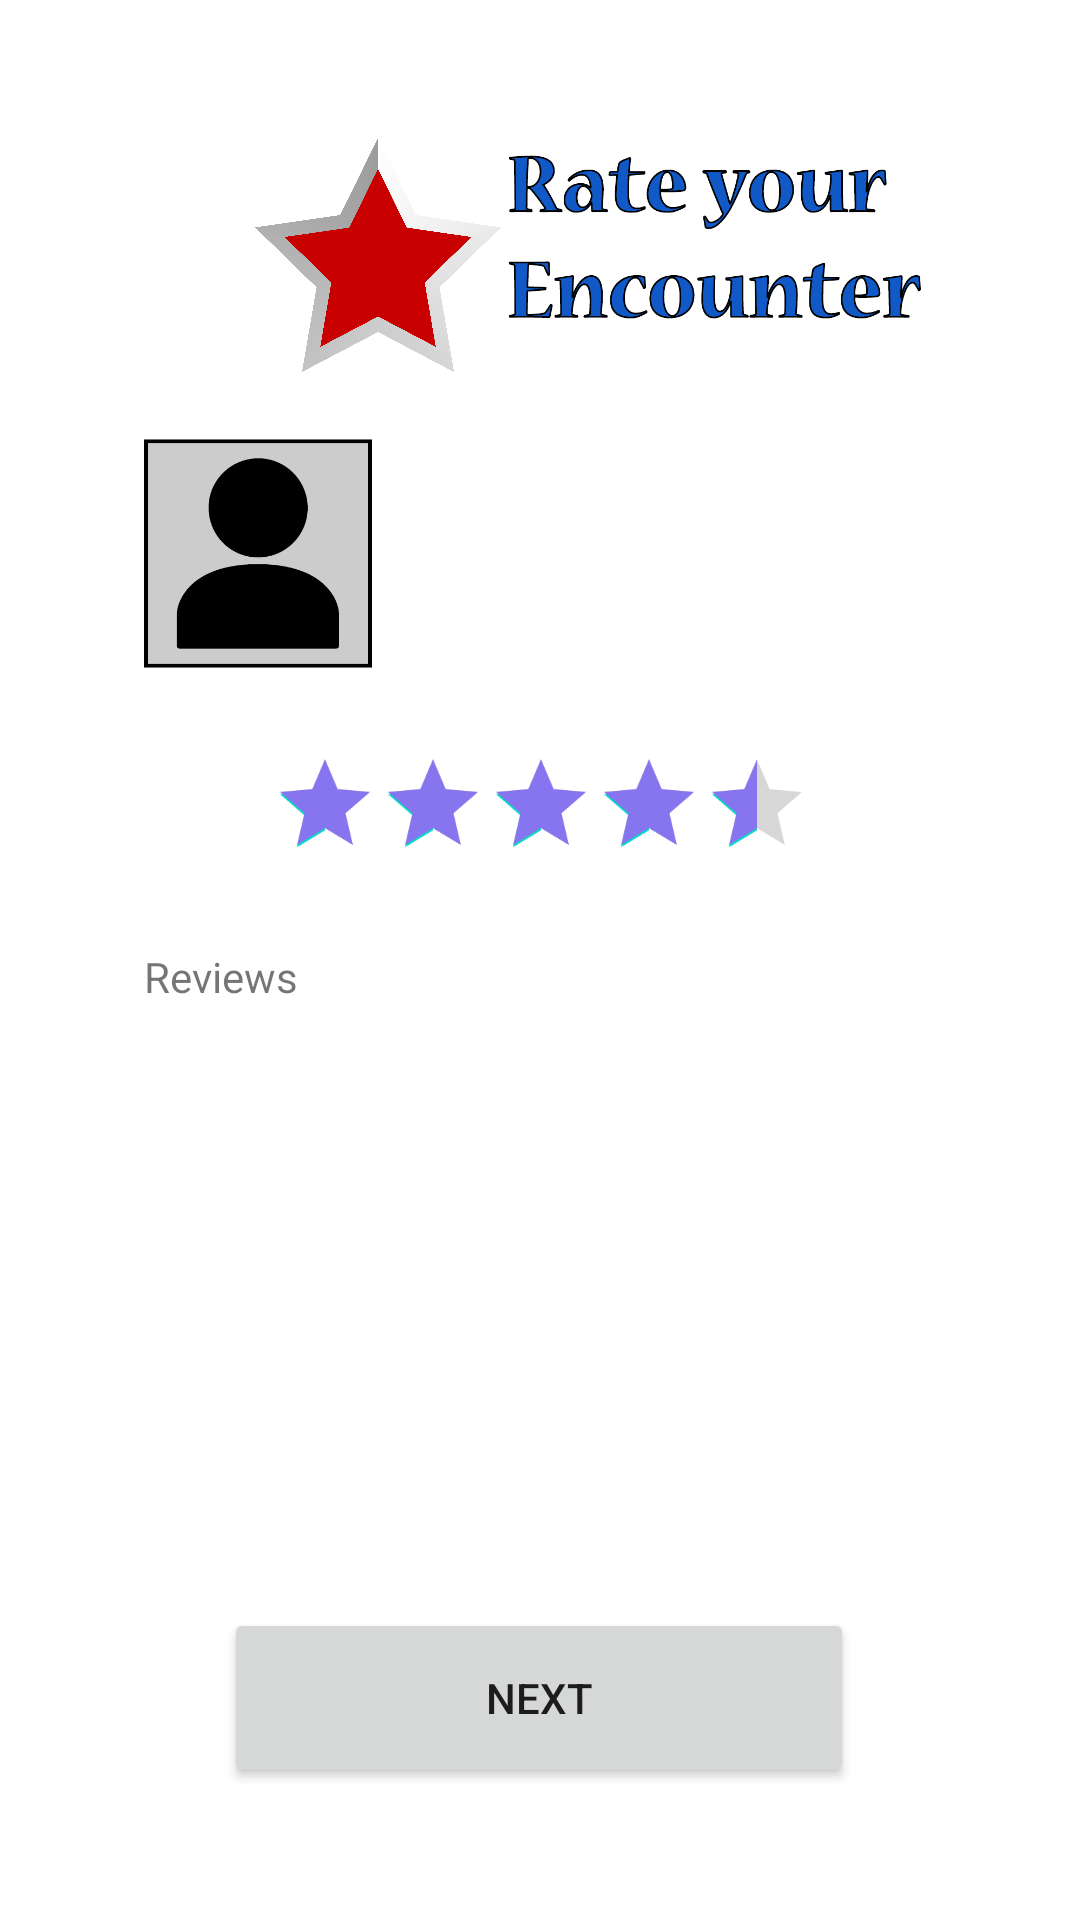

Named icons in this screenshot (1080×1920) and their bounding boxes, (x1, y1, x2, y2):
profile: (144, 439, 372, 668)
starr: (255, 139, 476, 372)
